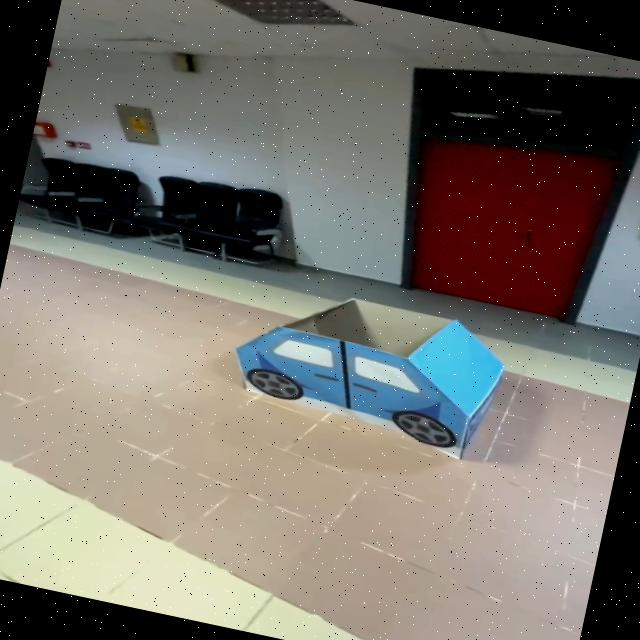blue_car: (186, 263, 538, 491)
